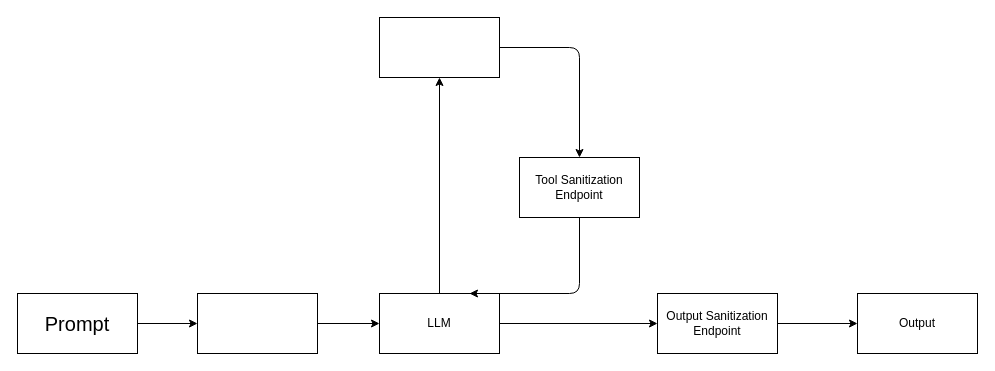
Some shapes in this 995 by 371 pixel diagram are drawn without their labels. The box of each missing label's shape, as (x1, y1, x2, y2) in pixels:
Prompt Sanitization Endpoint: (196, 292, 318, 354)
Tool: (378, 16, 500, 78)
